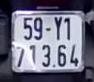1: (64, 16, 72, 41), (29, 44, 37, 68)
3: (41, 44, 52, 67)
4: (69, 43, 80, 68)
5: (22, 16, 34, 41)
6: (56, 44, 68, 67)
7: (15, 44, 26, 68)
9: (34, 16, 46, 41)
y: (52, 15, 63, 41)
